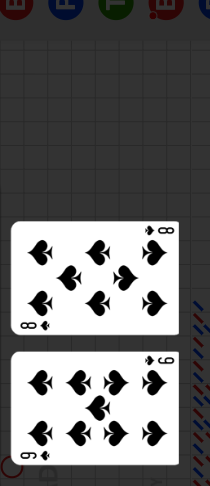10S: (142, 225, 175, 238)
9S: (142, 355, 175, 368)
